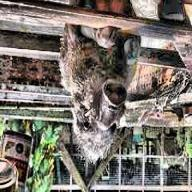boar: (53, 0, 140, 160)
